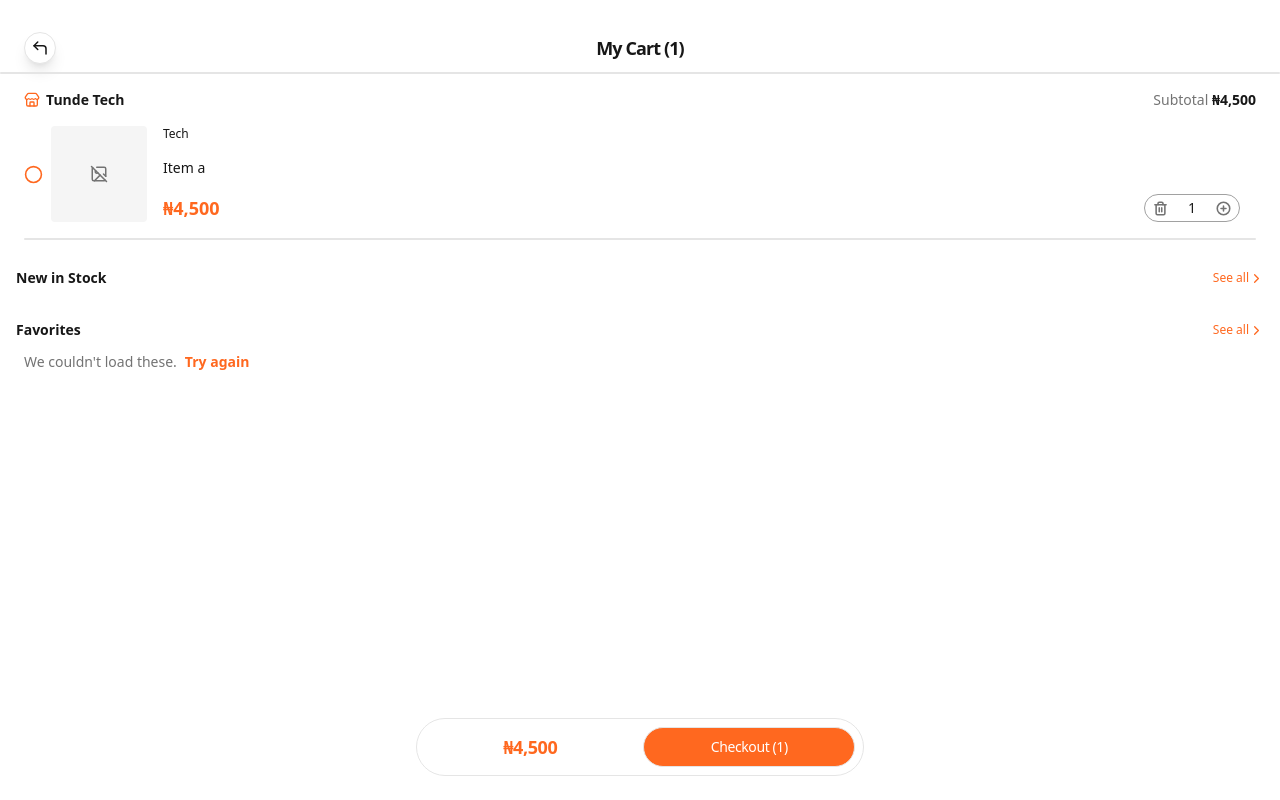
Test case: CartPage › says why a stepper change was refused
Click the button named "One more": (1224, 208) [1216,200,1231,216]
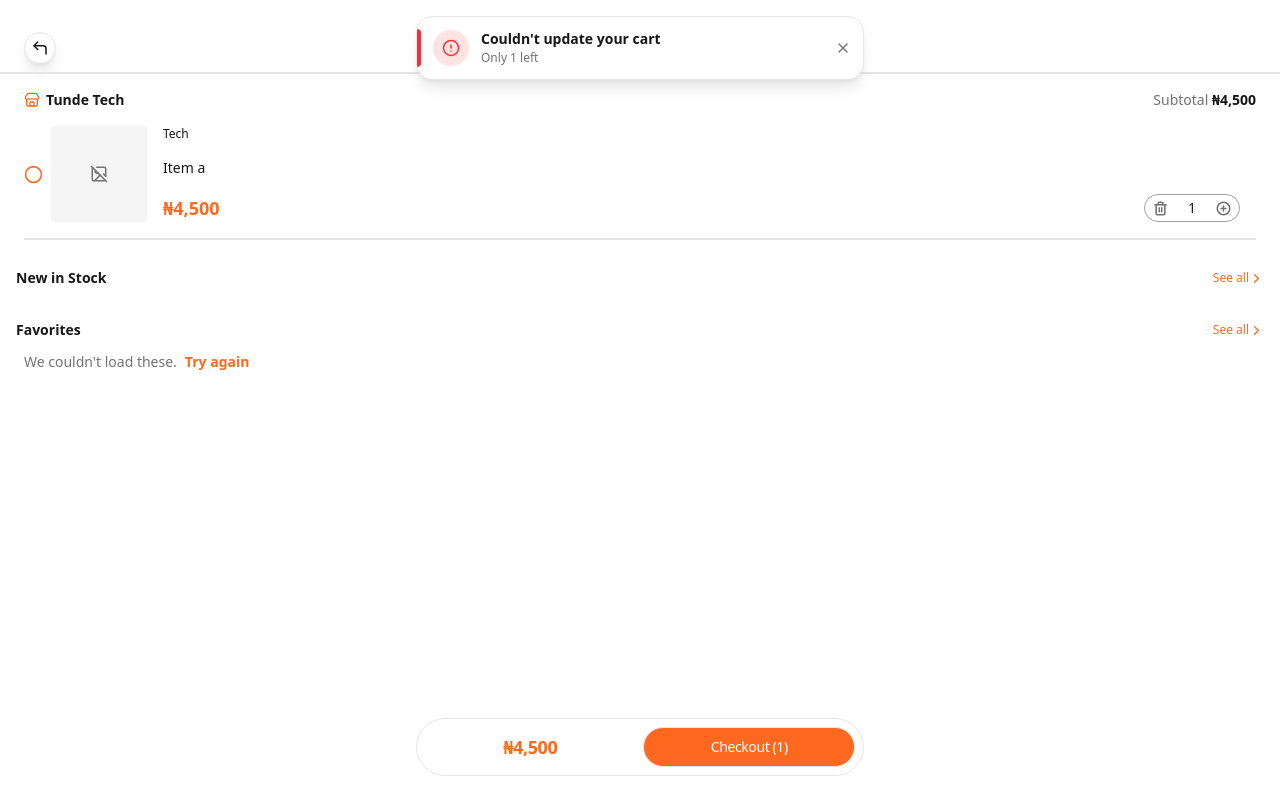
expect the text "Only 1 left" is shown: met, box [481,49,538,66]
